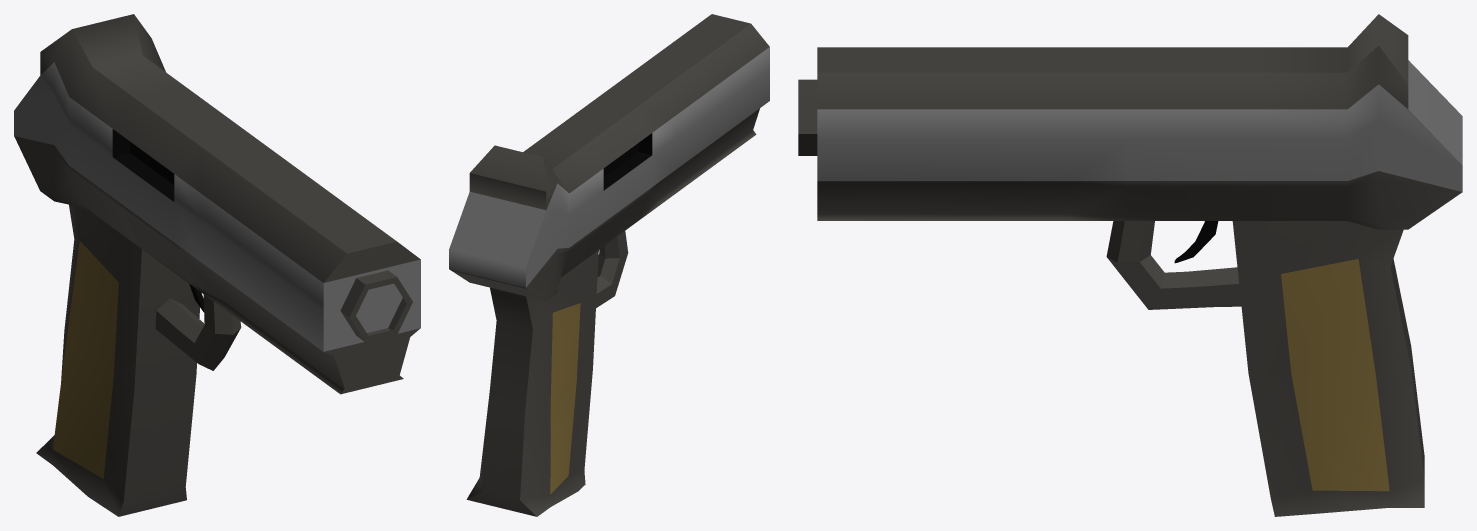
File: Gun.fbx
3 views of the same model, side by side, from view 1: azimuth 30°, elevation 25°; view 2: azimuth 150°, elevation 25°; view 3: azimuth 270°, elevation 25° (orthographic). The views are drawn at different scales.
Parts seen in each view (by area): view 1: pCube3; view 2: pCube3; view 3: pCube3.
Part boxes in pixels (bbox=[...]): pCube3: bbox=[14, 14, 420, 516]; pCube3: bbox=[449, 14, 769, 516]; pCube3: bbox=[798, 14, 1462, 516].
Size of the model in its own units: 1.4 by 6.18 by 7.92.
